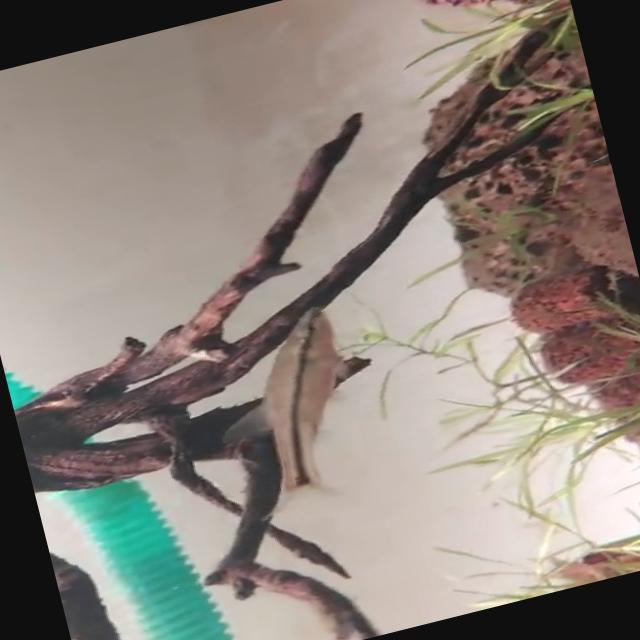Cakil Baligi: (192, 296, 384, 538)
